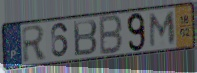6: (50, 21, 70, 60)
9: (125, 12, 147, 53)
B: (99, 14, 124, 57), (72, 18, 98, 58)
M: (148, 10, 176, 49)
R: (20, 24, 49, 65)
